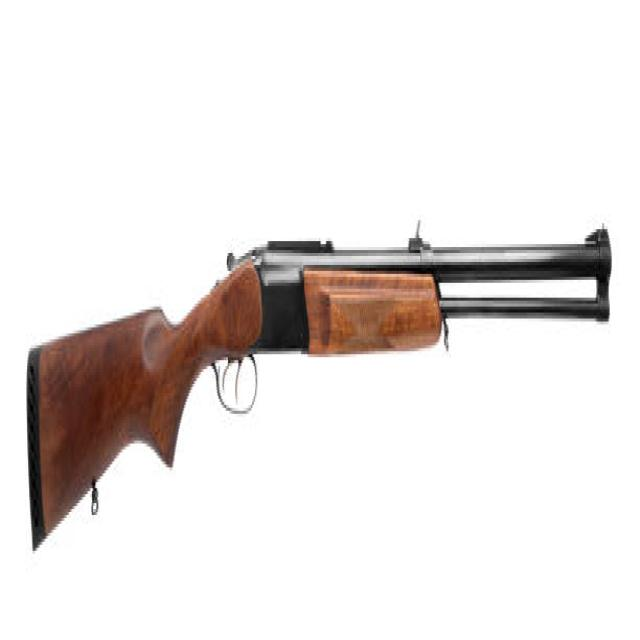rifle: (23, 198, 618, 560)
